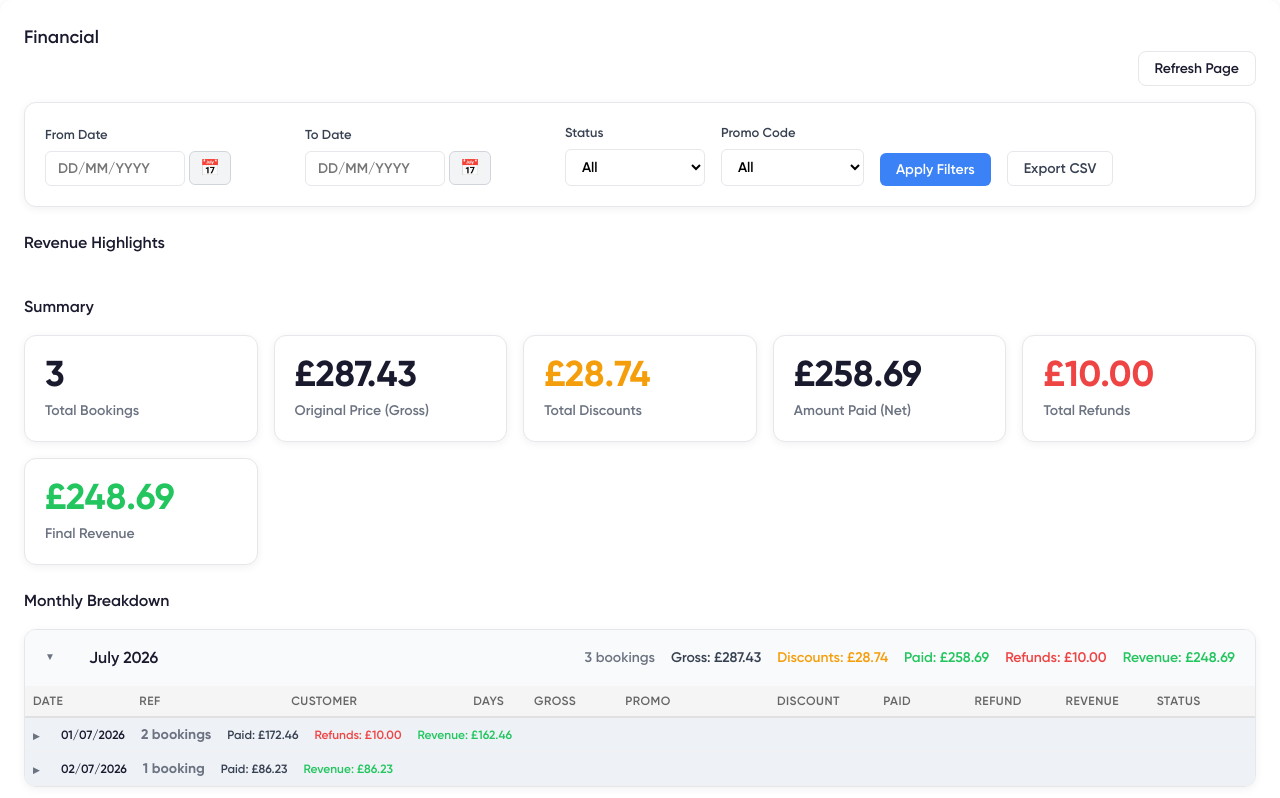
Scenario: Financial Monthly Breakdown — daily carets › clicking an expanded day row collapses it again
Click the text "01/07/2026". click: (640, 734)
box: [25,716,1255,751]
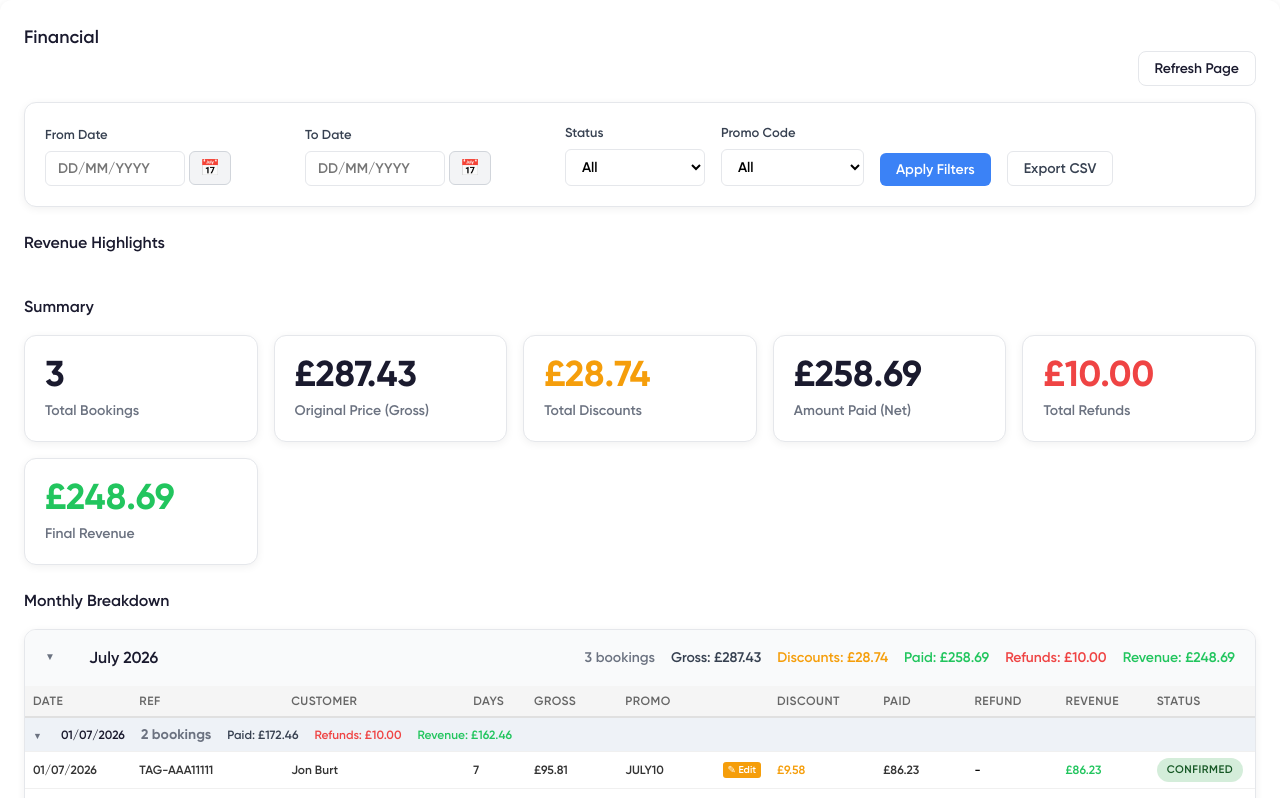
Check: the text "TAG-AAA11111" is shown, box [131,751,283,788]
Click the text "01/07/2026". click: (640, 734)
box: [25,716,1255,751]
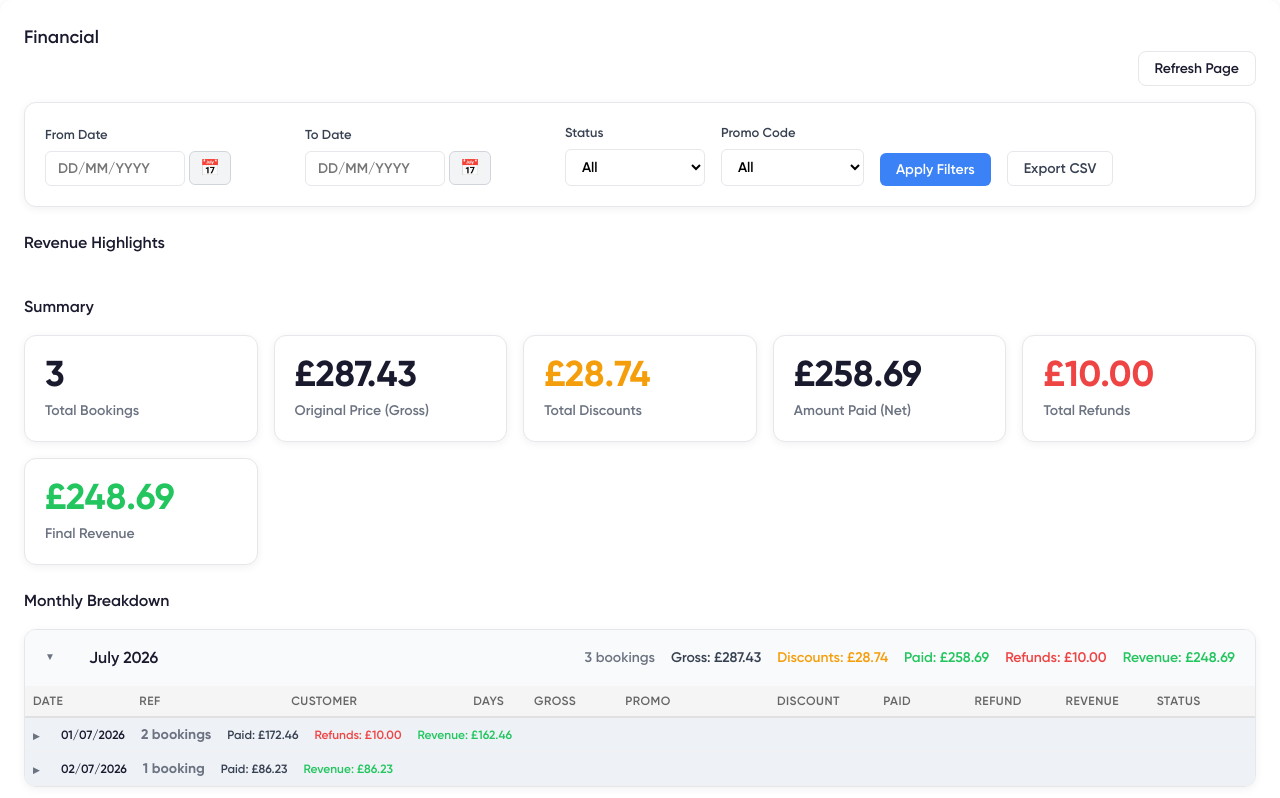
Check: the text "TAG-AAA11111" is gone
